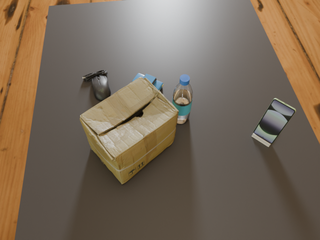bottle: (172, 75, 192, 124)
box: (80, 77, 179, 184)
mouse: (83, 70, 111, 100)
phone: (254, 98, 296, 143)
toy_car: (132, 73, 163, 91)
